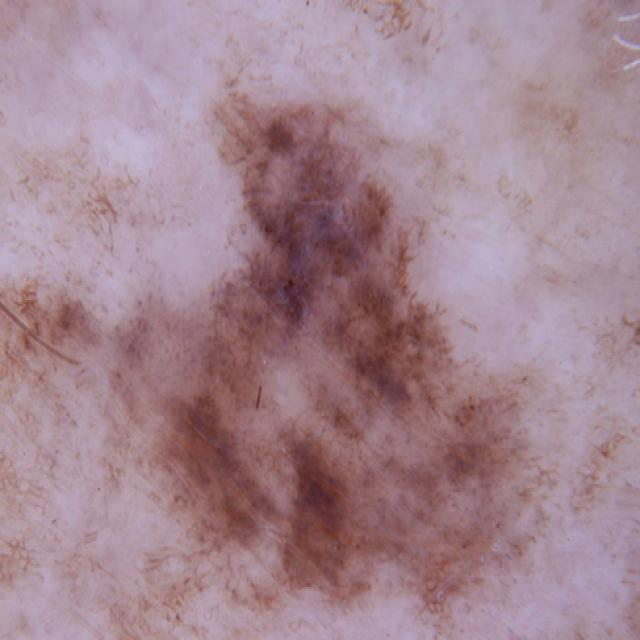Keratosis: (89, 85, 614, 640)
